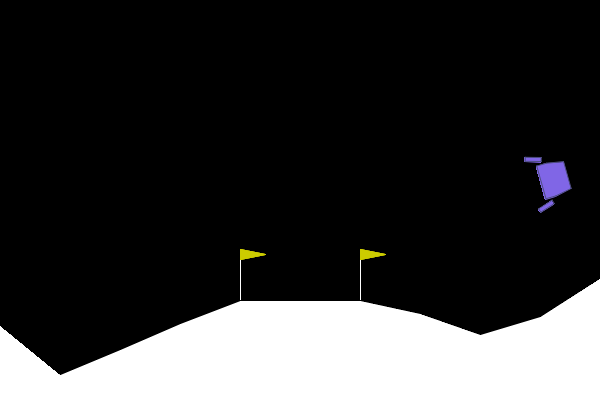lander: (522, 146, 577, 215)
